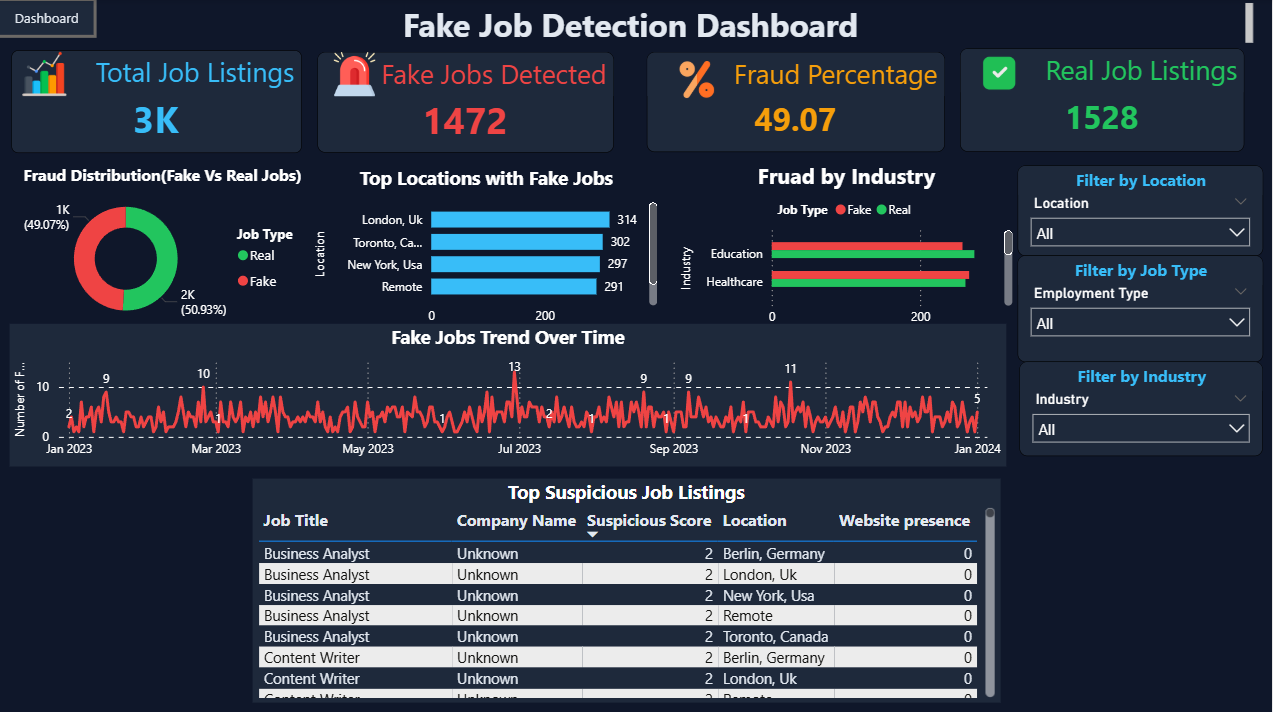

The dashboard page shown, as its layout file describes it:
{"tool":"powerbi","page":{"name":"Overview Dashboard","canvas":[1280,720],"ordinal":0},"visuals":[{"type":"textbox","box":[13.6,0,1252.2,51],"z":0},{"type":"card","title":"Total Job Listings","fields":{"Values":["jobs.Total Jobs"]},"box":[14.5,51.7,291.5,103.4],"z":1000},{"type":"card","title":"Fake Jobs Detected","fields":{"Values":["jobs.Fake Jobs"]},"box":[322.5,53.8,297.7,101.3],"z":2000},{"type":"card","title":"Fraud Percentage","fields":{"Values":["jobs.Fraud %"]},"box":[653.3,54.4,299.4,100.4],"z":3000},{"type":"card","title":"Real Job Listings","fields":{"Values":["Sum(jobs.Real Jobs)"]},"box":[968.1,51,285.8,103.8],"z":4000},{"type":"image","box":[335.2,54.4,49.3,44.2],"z":5000},{"type":"image","box":[25.5,52.7,44.2,47.6],"z":6000},{"type":"image","box":[666.9,62.9,71.5,37.4],"z":7000},{"type":"image","box":[986.8,52.7,39.1,45.9],"z":8000},{"type":"donutChart","title":"Fraud Distribution(Fake Vs Real Jobs)","fields":{"Y":["jobs.Total Jobs"],"Category":["jobs.is_fake_label"]},"box":[12.1,165.8,307.4,169.9],"z":9000},{"type":"clusteredBarChart","title":"Top Locations with Fake Jobs","fields":{"Category":["jobs.location"],"Y":["jobs.Fake Jobs"]},"box":[314.3,167.5,353.6,169.5],"z":10000},{"type":"clusteredBarChart","title":"Fruad by Industry","fields":{"Category":["jobs.Industry"],"Y":["CountNonNull(jobs.is_fake)"],"Series":["jobs.is_fake_label"]},"box":[682.3,165.4,343.2,173.7],"z":11000},{"type":"lineChart","title":"Fake Jobs Trend Over Time","fields":{"Category":["jobs.posting_date"],"Y":["jobs.Fake Jobs"]},"box":[12.1,327.6,1000.9,143.6],"z":12000},{"type":"slicer","title":"Filter by Location","fields":{"Values":["jobs.Location"]},"box":[1025.2,167.8,246.7,91],"z":13000},{"type":"slicer","title":"Filter by Job Type","fields":{"Values":["jobs.Employment Type"]},"box":[1025.2,258.8,246.7,107.2],"z":14000},{"type":"slicer","title":"Filter by Industry","fields":{"Values":["jobs.Industry"]},"box":[1027.2,366,244.7,95],"z":15000},{"type":"tableEx","title":"Top Suspicious Job Listings","fields":{"Values":["jobs.Job Title","jobs.Company Name","jobs.Suspicious Score","jobs.Location","Sum(jobs.has_website)"]},"box":[256.7,482.7,750.3,224.2],"z":16000},{"type":"actionButton","box":[0,0,100,40],"z":16001}]}

Visuals, with their boxes on the page's 1280x720 design canvas (x1, y1, x2, y2). These are canvas units, not pixel positions in the 1273x712 screenshot, which may show the page scaled, cropped or inside an application window:
textbox: box=[14, 0, 1266, 51]
"Total Job Listings" card: box=[14, 52, 306, 155]
"Fake Jobs Detected" card: box=[322, 54, 620, 155]
"Fraud Percentage" card: box=[653, 54, 953, 155]
"Real Job Listings" card: box=[968, 51, 1254, 155]
image: box=[335, 54, 384, 99]
image: box=[26, 53, 70, 100]
image: box=[667, 63, 738, 100]
image: box=[987, 53, 1026, 99]
"Fraud Distribution(Fake Vs Real Jobs)" donutChart: box=[12, 166, 320, 336]
"Top Locations with Fake Jobs" clusteredBarChart: box=[314, 168, 668, 337]
"Fruad by Industry" clusteredBarChart: box=[682, 165, 1026, 339]
"Fake Jobs Trend Over Time" lineChart: box=[12, 328, 1013, 471]
"Filter by Location" slicer: box=[1025, 168, 1272, 259]
"Filter by Job Type" slicer: box=[1025, 259, 1272, 366]
"Filter by Industry" slicer: box=[1027, 366, 1272, 461]
"Top Suspicious Job Listings" tableEx: box=[257, 483, 1007, 707]
actionButton: box=[0, 0, 100, 40]
